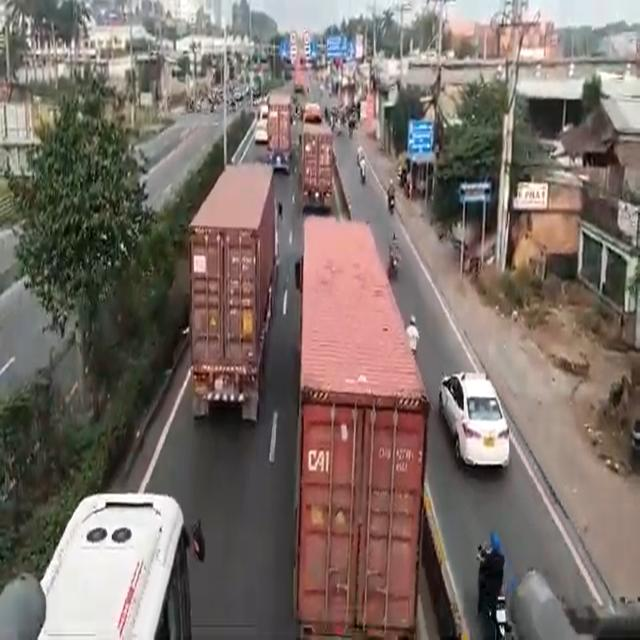bus: (28, 496, 185, 640)
car: (442, 370, 514, 471)
motor: (479, 546, 507, 636)
truck: (300, 212, 421, 640), (184, 153, 280, 420), (300, 123, 336, 207), (267, 86, 288, 164)
